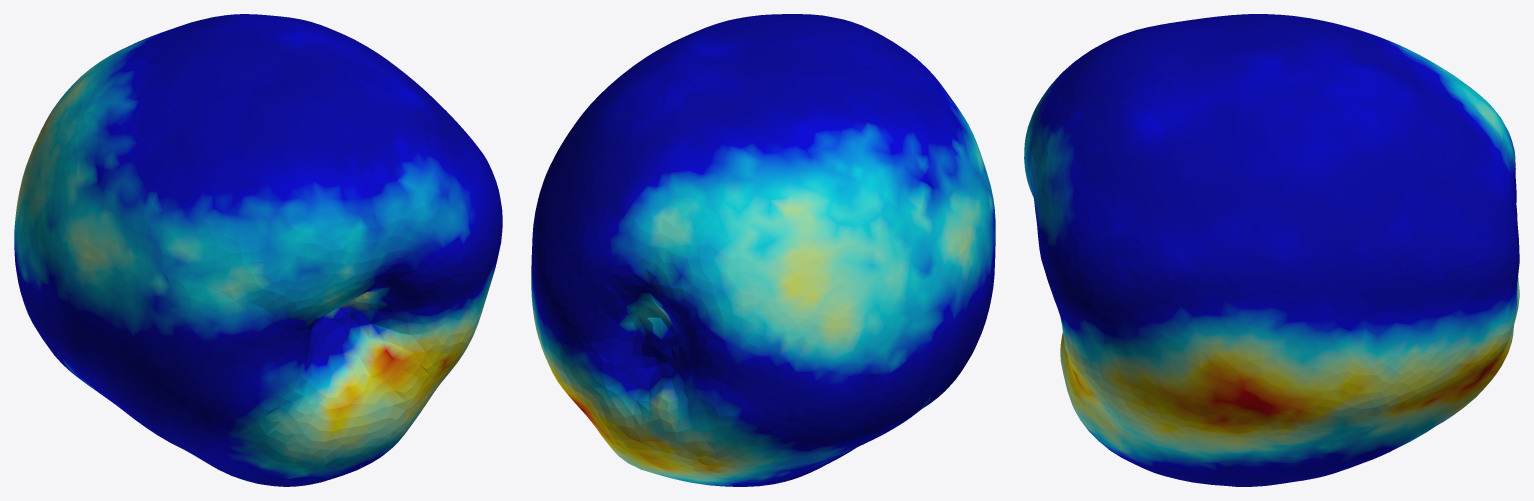
File: apple_error_poisson.glb
3 renders of one model, left to right at view 1: azimuth 30°, elevation 25°; view 2: azimuth 150°, elevation 25°; view 3: azimuth 270°, elevation 25°, orthographic. The views are drawn at different scales.
Visible parts, largest first — view 1: Apple.obj; view 2: Apple.obj; view 3: Apple.obj.
Part boxes in pixels (x1=…): Apple.obj: x1=14, y1=14, x2=502, y2=486; Apple.obj: x1=531, y1=14, x2=995, y2=486; Apple.obj: x1=1024, y1=14, x2=1519, y2=486.
Bounding box in the file's own units: 1.73 × 1.71 × 1.81.
